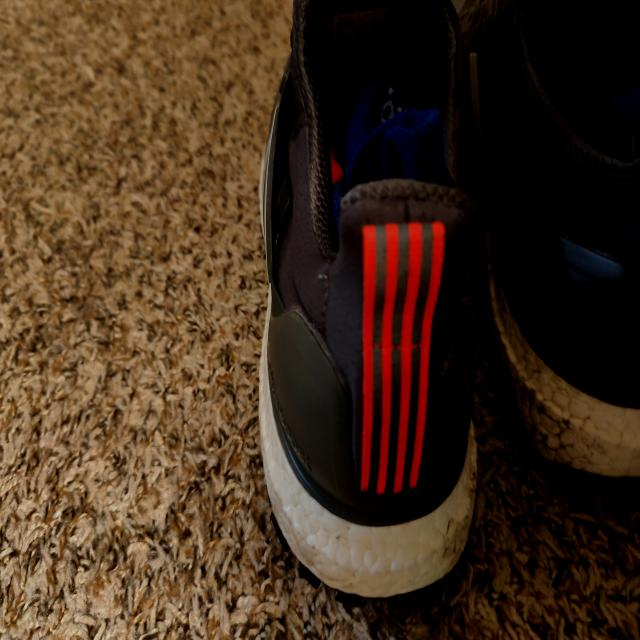black shoes: (264, 1, 638, 588)
